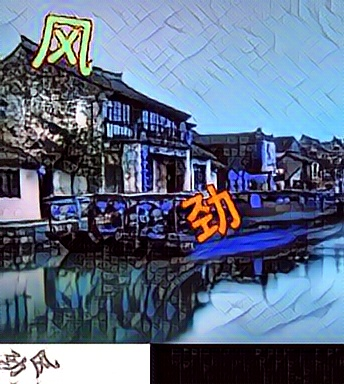B7E7: (31, 9, 95, 75)
BEA2: (181, 180, 245, 246)
